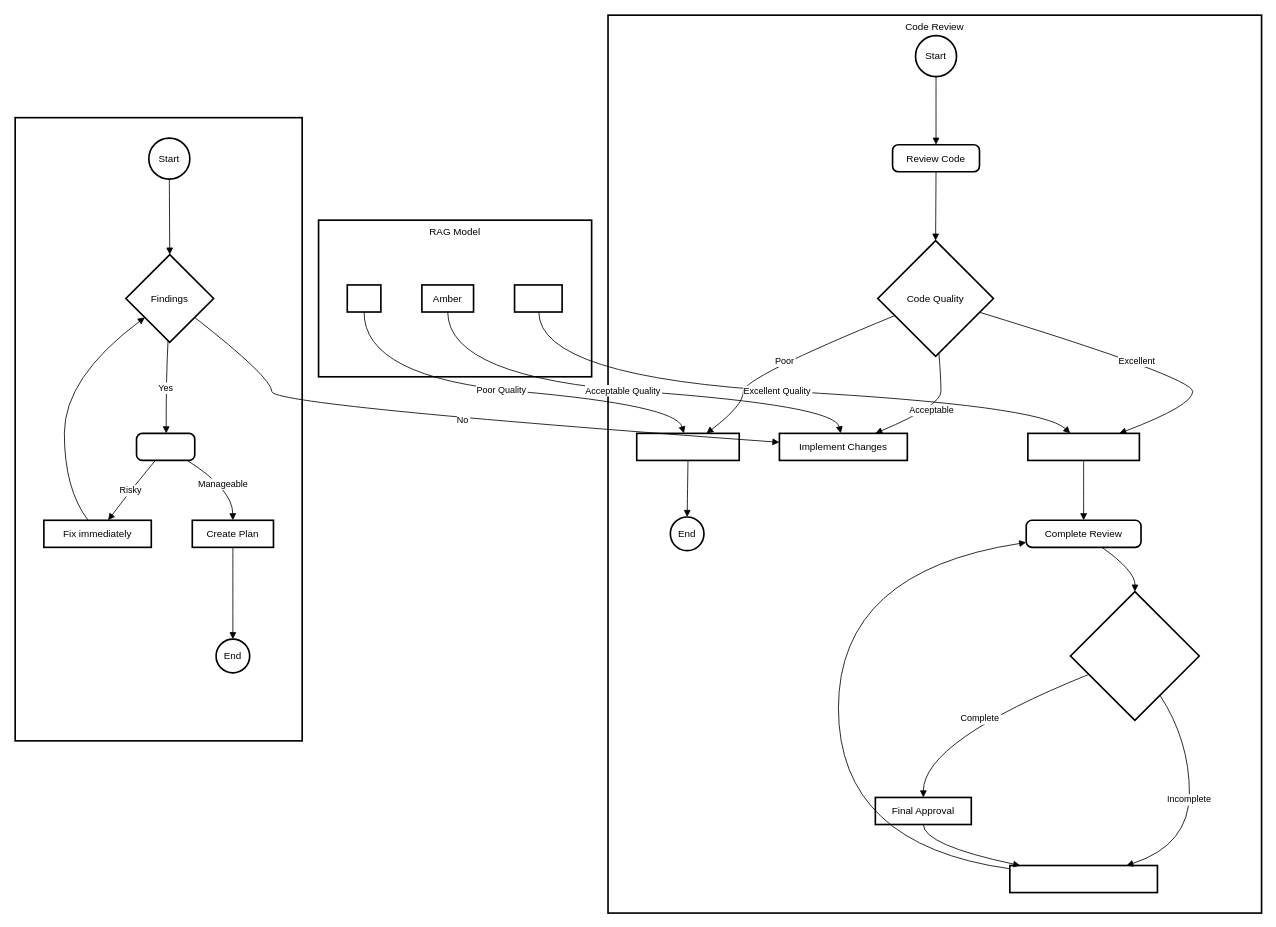
Image size: 1276x927. Some labels were removed from this diagram. Here are the shapes that lost their labels. From the top down, the box of each, then its label:
(346, 284, 381, 312): Red
(513, 284, 563, 312): Green
(14, 116, 303, 741): LLM
(135, 432, 195, 461): Analyze
(636, 432, 740, 461): Reject Changes
(1027, 432, 1140, 461): Continue Process
(1069, 590, 1200, 721): Documentation
(1009, 864, 1158, 893): Update Documentation
